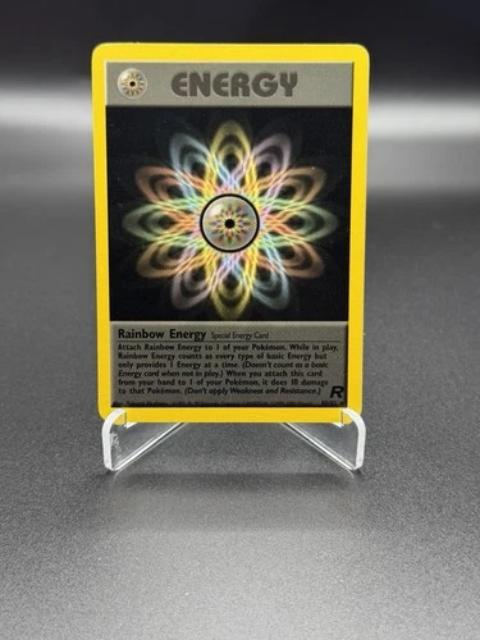Card: (87, 37, 376, 430)
Name: (113, 322, 210, 344)
